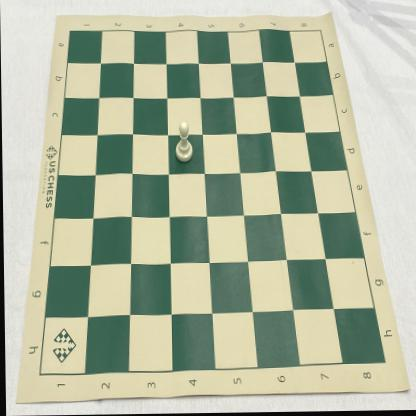white-pawn: (175, 120, 193, 164)
